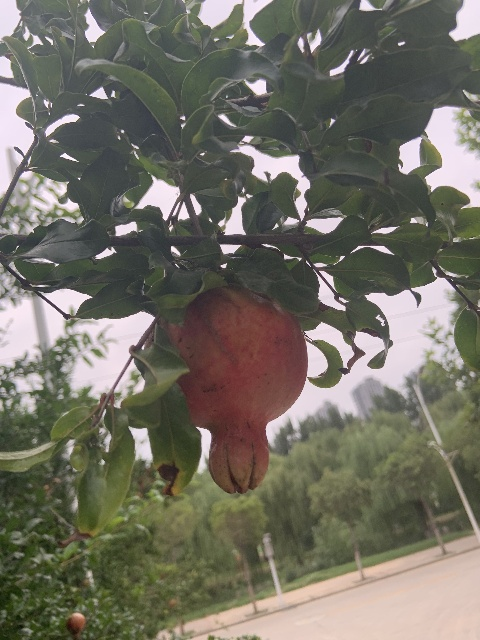ripe: (144, 290, 308, 493), (66, 613, 86, 637)
